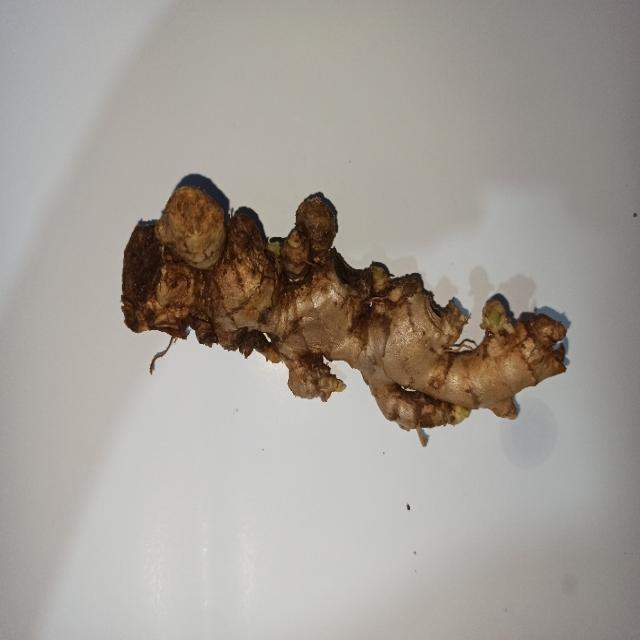ginger: (125, 190, 567, 434)
